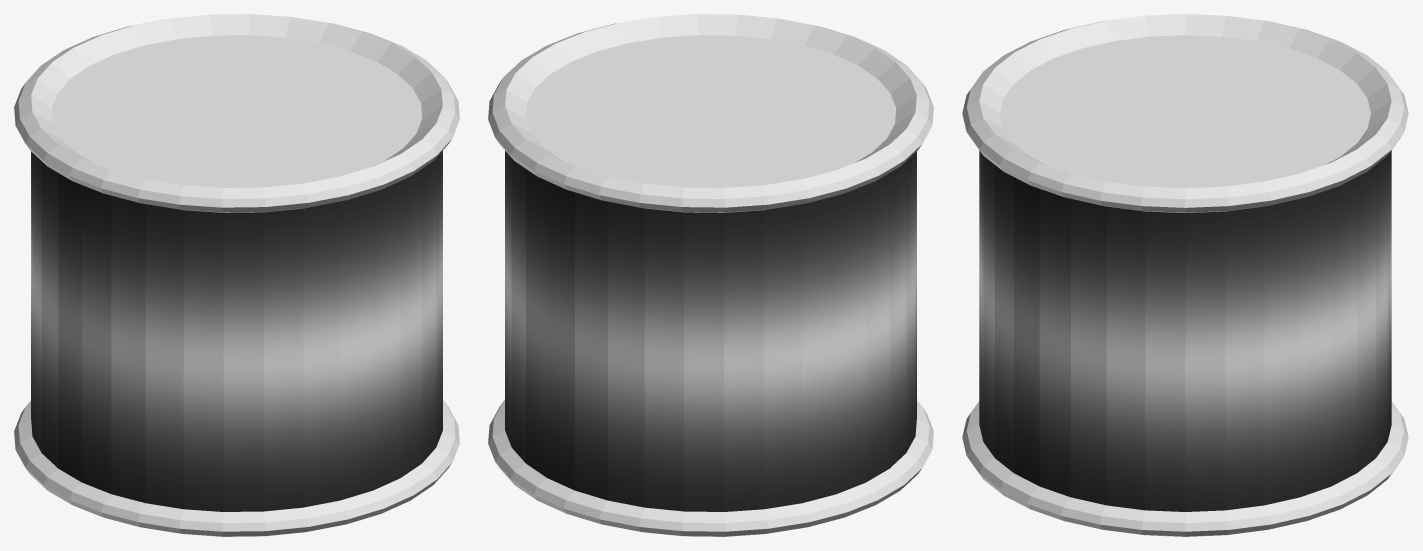
Rendered from Barrel_Glass_1-1.fbx.
3 renders of one model, left to right at view 1: azimuth 30°, elevation 25°; view 2: azimuth 150°, elevation 25°; view 3: azimuth 270°, elevation 25°, orthographic.
Visible parts, largest first — view 1: Barrel_Glass_1-1; view 2: Barrel_Glass_1-1; view 3: Barrel_Glass_1-1.
Part boxes in pixels (left/top/right/bottom): Barrel_Glass_1-1: left=14, top=14, right=459, bottom=536; Barrel_Glass_1-1: left=488, top=14, right=933, bottom=536; Barrel_Glass_1-1: left=962, top=14, right=1408, bottom=536.
Size of the model in its own units: 162 by 140 by 162.
3 materials, 1 textured.
